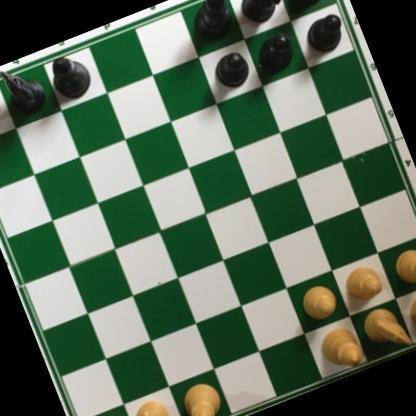black-bishop: (44, 50, 96, 105), (185, 0, 239, 48)
black-knight: (0, 58, 52, 123), (230, 0, 290, 30)
black-pawn: (250, 26, 301, 78), (298, 8, 350, 58), (207, 44, 255, 93)
black-rook: (275, 0, 342, 11), (0, 73, 6, 137)
white-bishop: (314, 320, 368, 377), (178, 375, 232, 416)
white-knight: (356, 300, 414, 362), (126, 397, 181, 416)
white-pawn: (340, 260, 385, 305), (296, 280, 339, 324), (389, 242, 416, 287)
white-rook: (402, 282, 416, 345), (73, 412, 139, 416)
